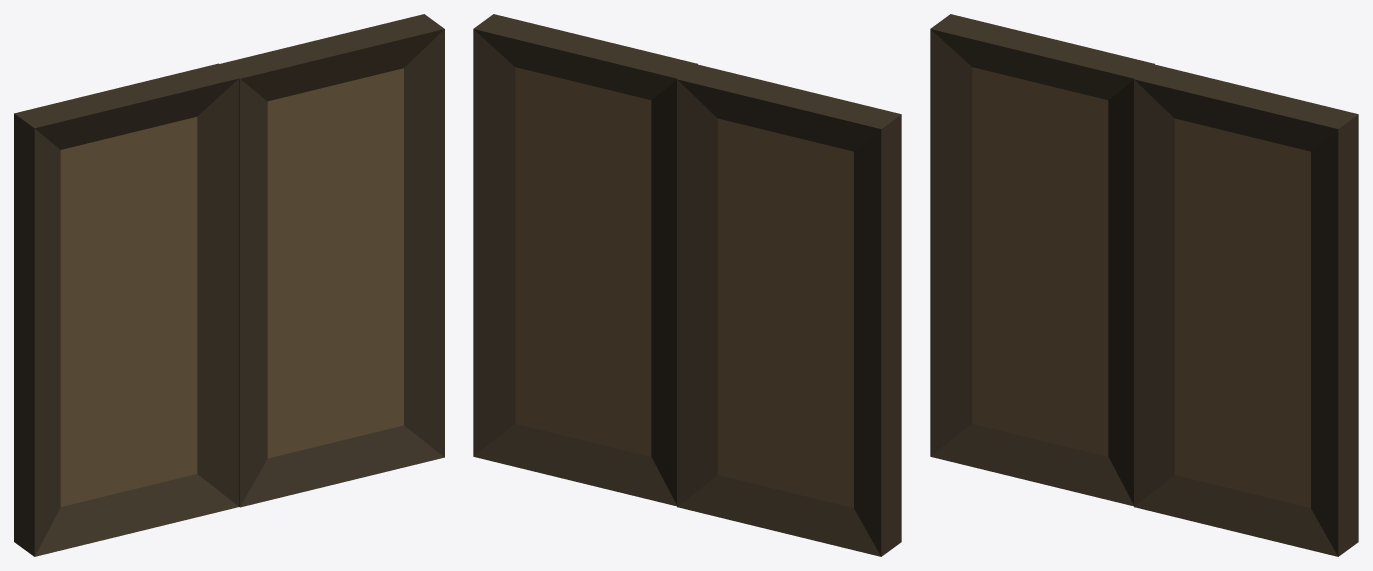
Rendered from roman_window_shutters_1_offset.fbx.
3 views of the same model, side by side, from view 1: azimuth 30°, elevation 25°; view 2: azimuth 150°, elevation 25°; view 3: azimuth 330°, elevation 25° (orthographic).
Visible parts, largest first — view 1: Cube.068, Cube.069; view 2: Cube.068, Cube.069; view 3: Cube.069, Cube.068.
Part boxes in pixels (<box>): Cube.068: <box>14,63,239,556</box>; Cube.069: <box>220,14,444,507</box>; Cube.068: <box>677,64,901,556</box>; Cube.069: <box>473,14,697,506</box>; Cube.069: <box>1134,64,1358,556</box>; Cube.068: <box>930,14,1154,506</box>.
Size of the model in its own units: 1.2 by 1.2 by 0.1072.
1 material, 1 textured.
